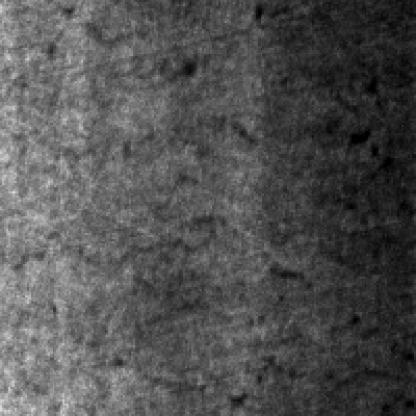crazing: (252, 84, 414, 412), (6, 170, 220, 410)
